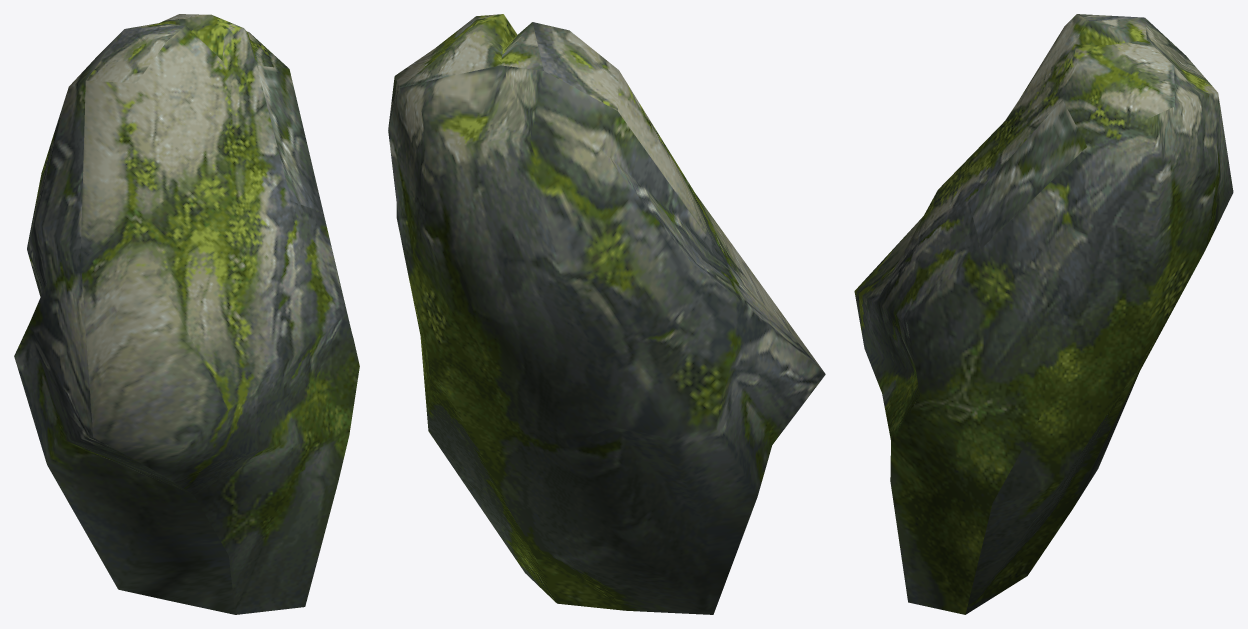
Rendered from jd_shitou_13.FBX.
3 renders of one model, left to right at view 1: azimuth 30°, elevation 25°; view 2: azimuth 150°, elevation 25°; view 3: azimuth 270°, elevation 25°, orthographic. The views are drawn at different scales.
Parts seen in each view (by area): view 1: jd_shitou_13; view 2: jd_shitou_13; view 3: jd_shitou_13.
Boxes of the visible parts, bbox=[...] form: jd_shitou_13: bbox=[14, 14, 359, 614]; jd_shitou_13: bbox=[388, 14, 825, 614]; jd_shitou_13: bbox=[854, 14, 1233, 614].
Bounding box in the file's own units: 3350 × 5886 × 3587.
